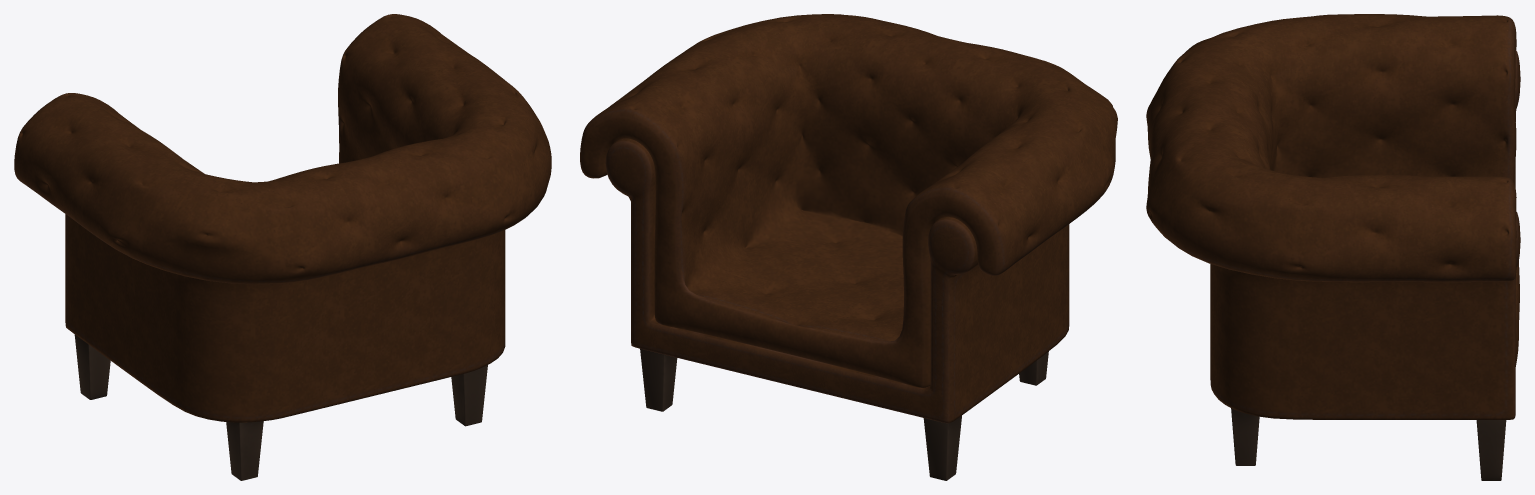
File: Chair16.fbx
3 renders of one model, left to right at view 1: azimuth 30°, elevation 25°; view 2: azimuth 150°, elevation 25°; view 3: azimuth 270°, elevation 25°, orthographic. The views are drawn at different scales.
Parts seen in each view (by area): view 1: Chair16; view 2: Chair16; view 3: Chair16.
Boxes of the visible parts, box(x1,y1,x2,y2) form: Chair16: box(14, 14, 551, 480); Chair16: box(580, 14, 1117, 480); Chair16: box(1146, 14, 1520, 480).
Bounding box in the file's own units: 96.44 × 64.54 × 71.37.
